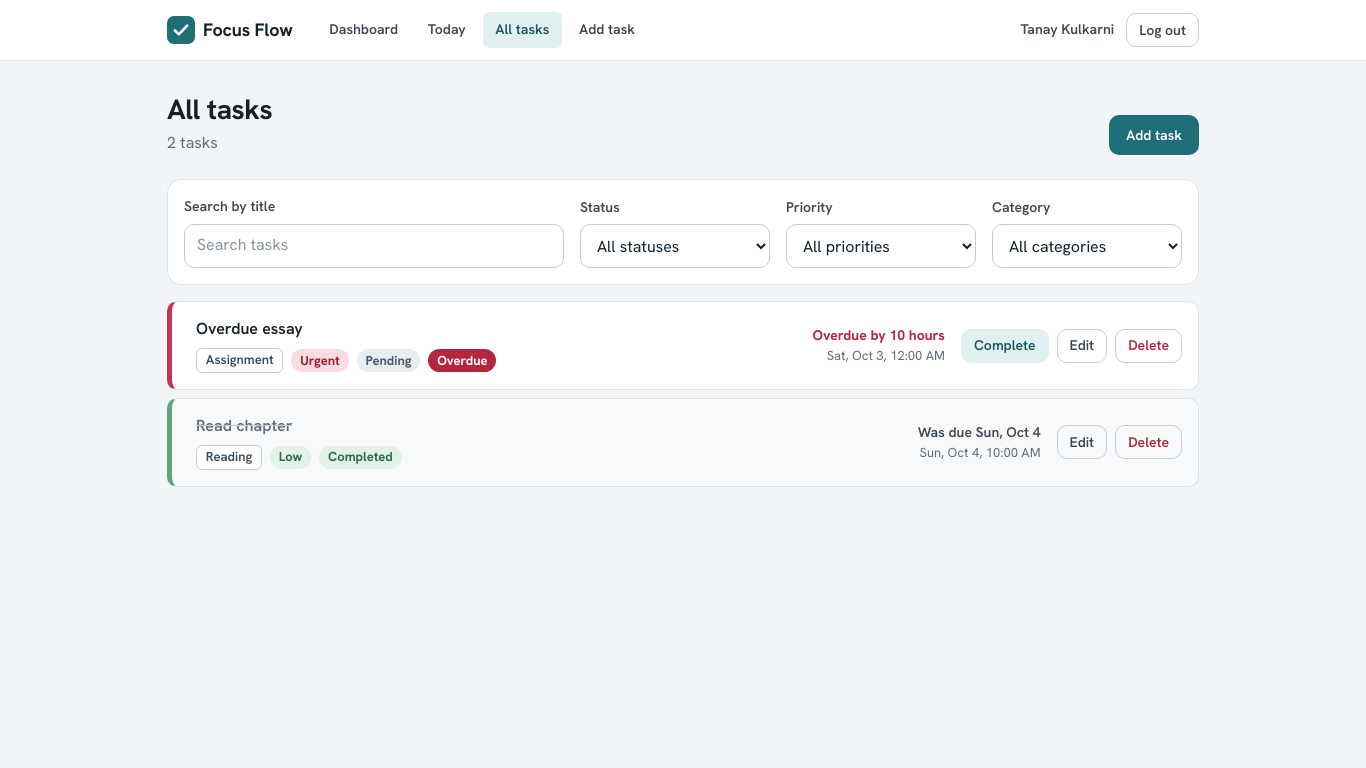
all tasks page › asks for confirmation before deleting
Click the button named "Delete \"Overdue essay\"" at point(1149, 346), box [1115,328,1182,362]
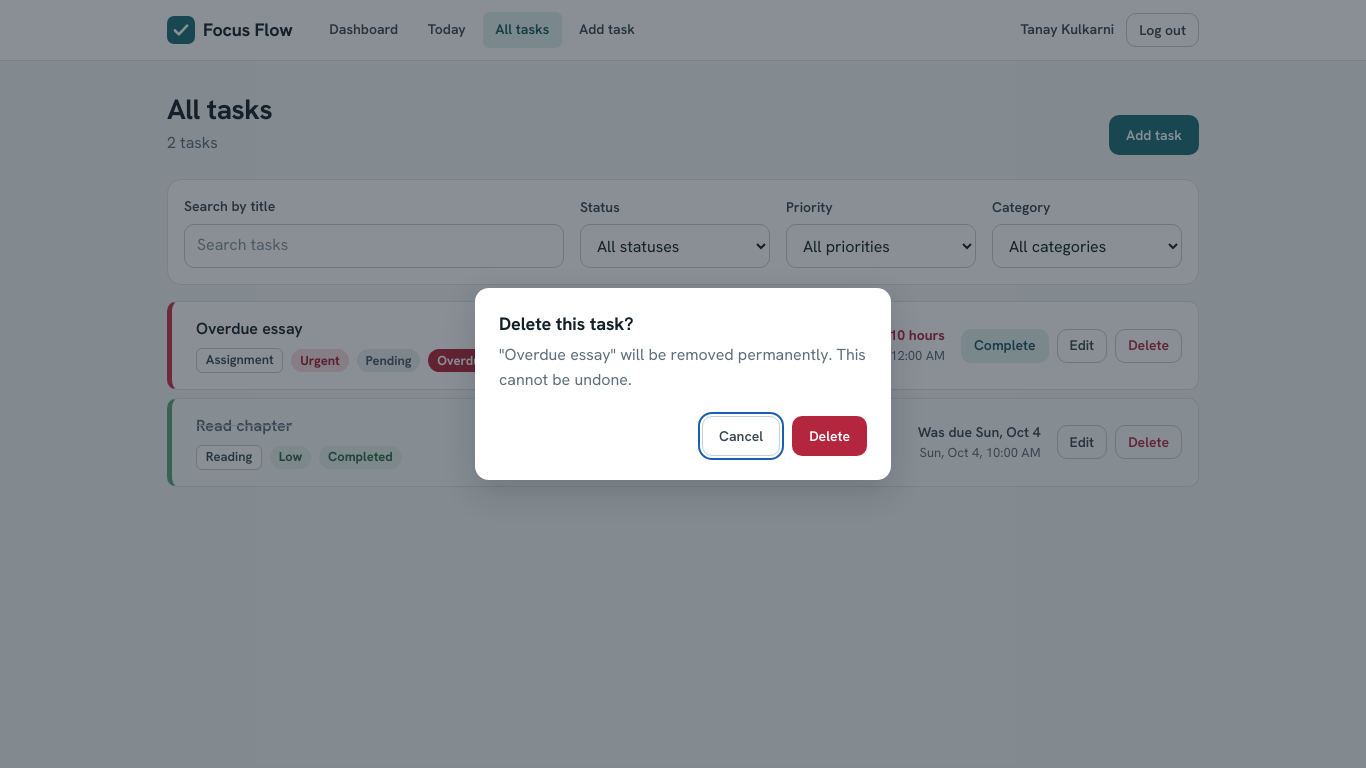
Expected: the heading "Delete this task?" is shown, [499,312,634,334]
Expected: the dialog shows "Overdue essay", [499,344,866,390]
Click the button "Cancel" at point(741, 436), box [702,416,780,456]
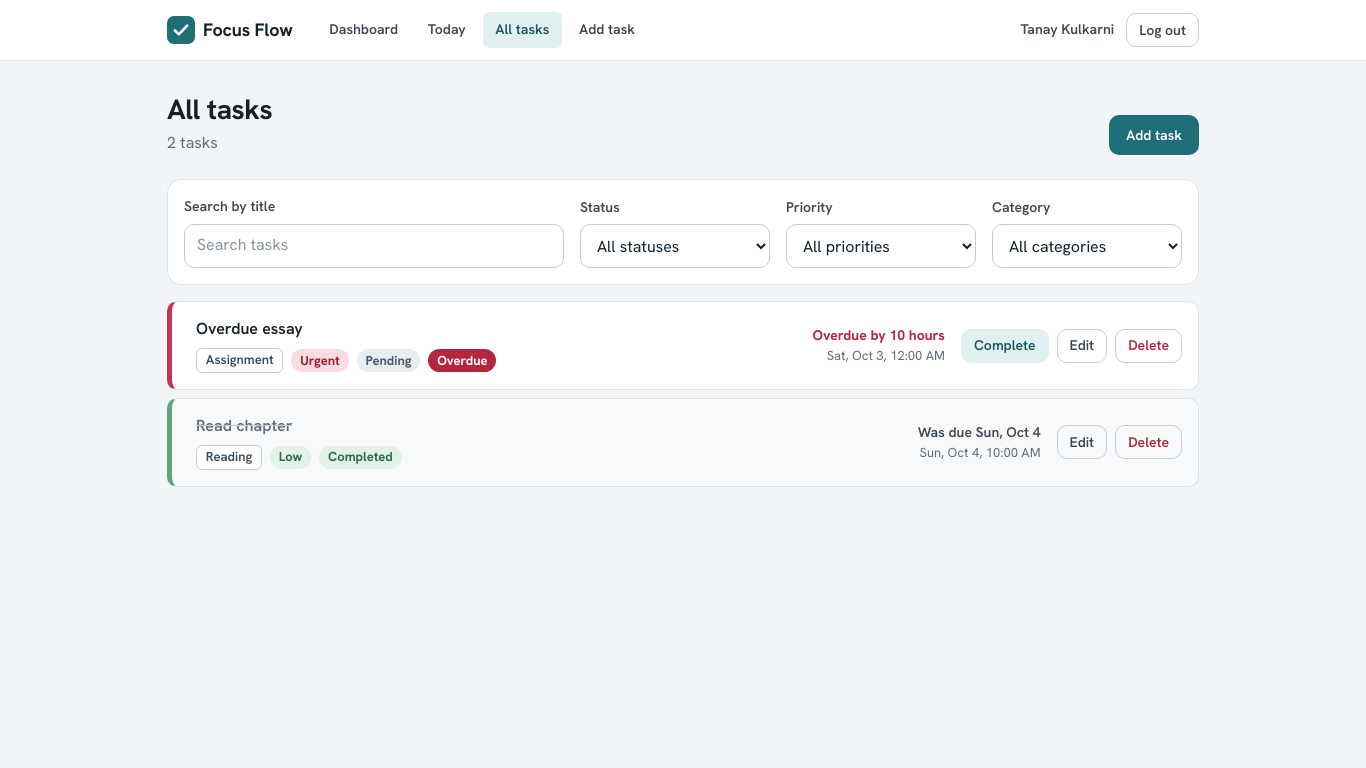
Expected: the dialog is gone
Click the button named "Delete \"Overdue essay\"" at point(1149, 346), box [1115,328,1182,362]
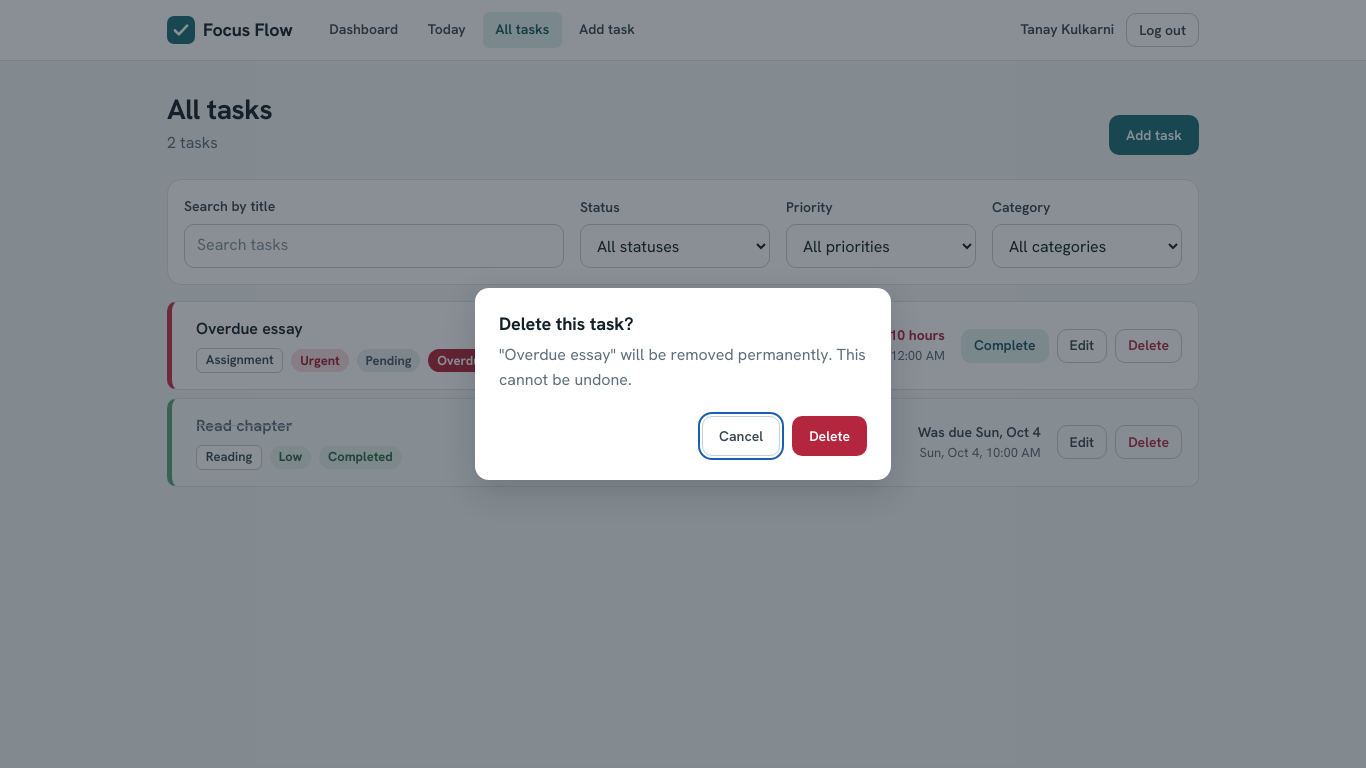
Click the button "Delete" at point(830, 436), box [792,416,867,456]
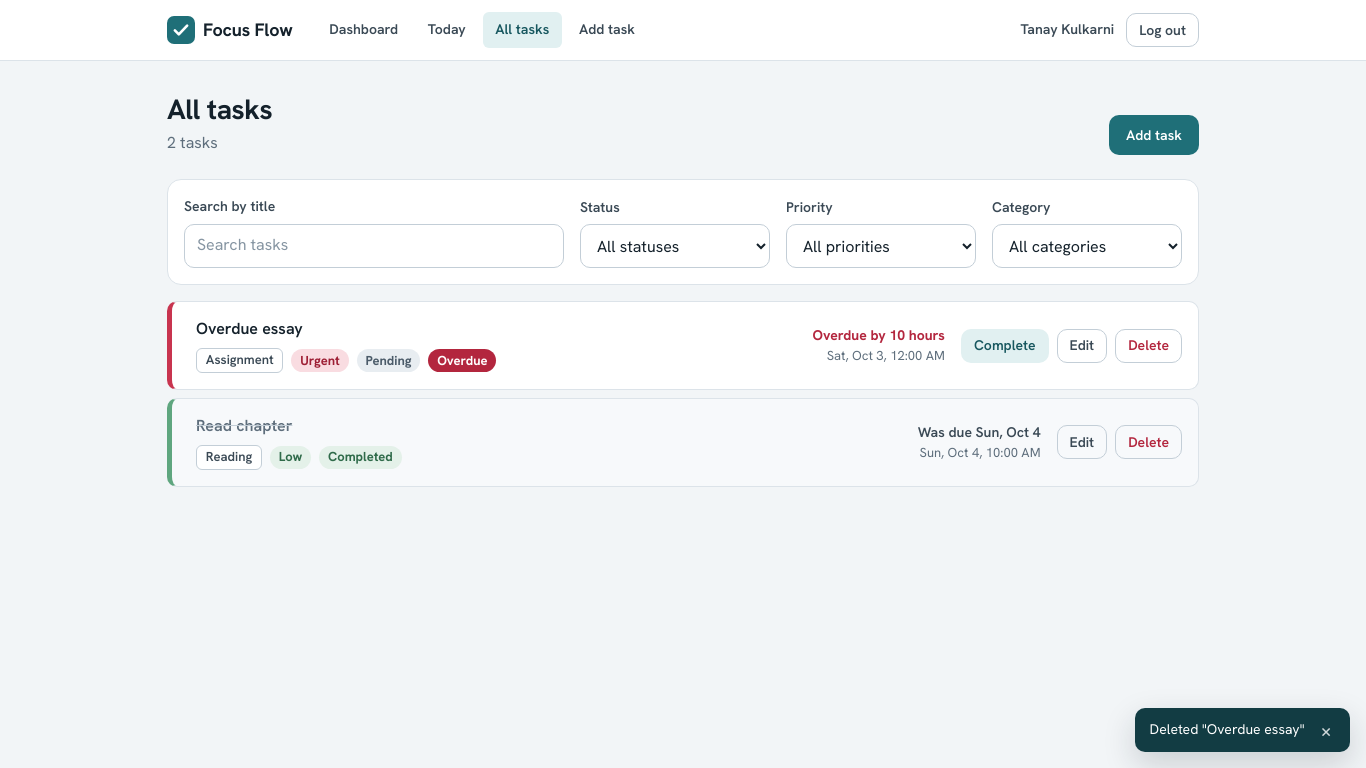
Expected: the text "Deleted \"Overdue essay\"" is shown, [1150,719,1304,741]
